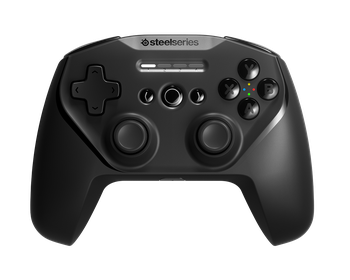controller: (30, 33, 315, 247)
